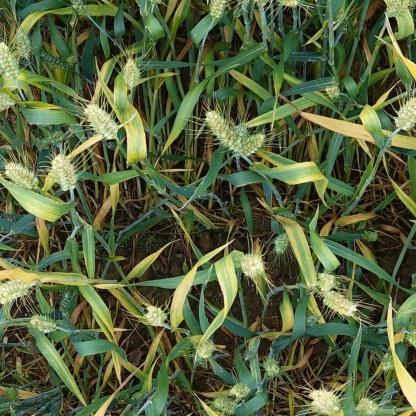whd: (205, 110, 241, 154), (84, 104, 118, 139), (4, 162, 39, 191), (52, 154, 78, 191), (322, 290, 358, 316), (308, 389, 340, 414), (0, 41, 21, 79), (0, 279, 29, 304), (236, 133, 265, 157), (395, 96, 415, 130), (240, 254, 265, 278), (41, 49, 68, 70), (123, 58, 141, 88), (143, 305, 167, 327), (14, 28, 31, 58), (30, 315, 56, 333), (213, 394, 236, 414), (386, 0, 411, 18), (354, 398, 379, 415), (41, 129, 63, 147), (316, 273, 336, 292), (229, 383, 251, 399), (274, 231, 289, 254), (209, 0, 227, 19), (196, 341, 216, 357), (59, 291, 71, 316), (0, 92, 14, 112), (263, 359, 279, 376), (0, 401, 19, 414), (233, 124, 250, 138), (382, 354, 395, 372), (338, 15, 351, 33), (72, 0, 87, 15), (324, 85, 340, 99), (405, 329, 416, 348), (6, 386, 18, 402), (243, 348, 256, 362), (363, 230, 378, 242), (279, 0, 301, 8), (306, 314, 320, 326), (126, 408, 140, 416)
